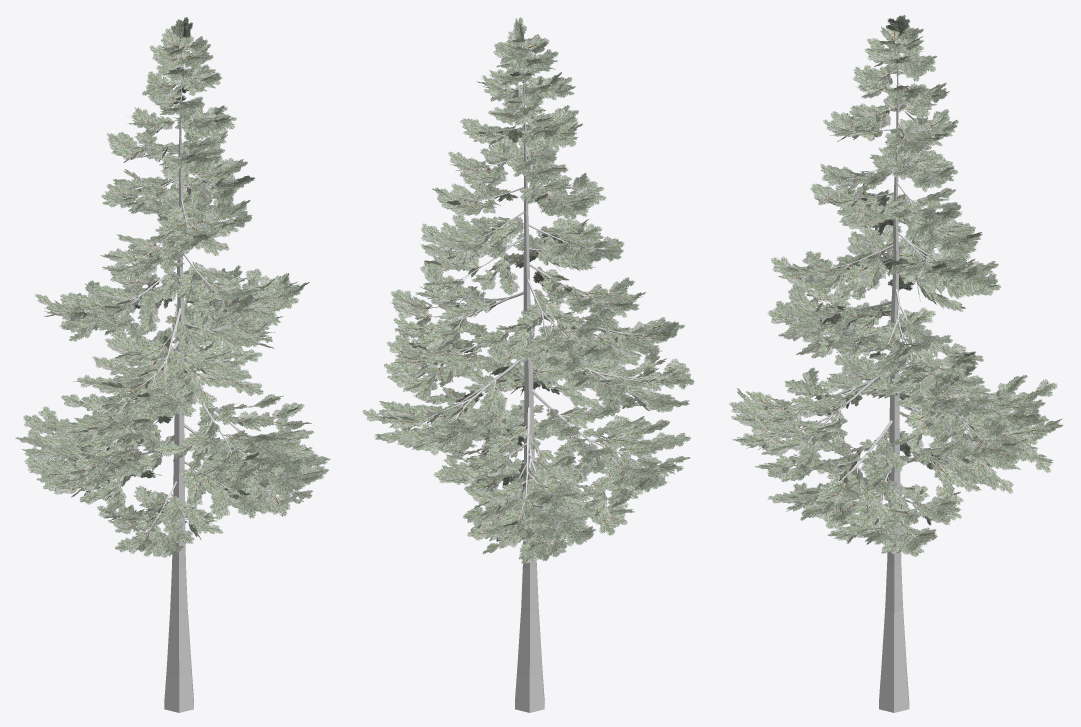
File: SnowTree3.fbx
The picture shows the model from 3 angles, left to right: view 1: azimuth 30°, elevation 25°; view 2: azimuth 150°, elevation 25°; view 3: azimuth 270°, elevation 25°; orthographic projection.
Visible parts, largest first — view 1: leaves.002, tree.003; view 2: leaves.002, tree.003; view 3: leaves.002, tree.003.
Part boxes in pixels (box(x1,y1,x2,y2)): leaves.002: box(15, 17, 330, 557); tree.003: box(44, 37, 298, 712); leaves.002: box(362, 17, 694, 563); tree.003: box(406, 44, 665, 712); leaves.002: box(729, 15, 1063, 556); tree.003: box(756, 32, 1033, 712).
Bounding box in the file's own units: 11.07 × 26.05 × 11.57.
